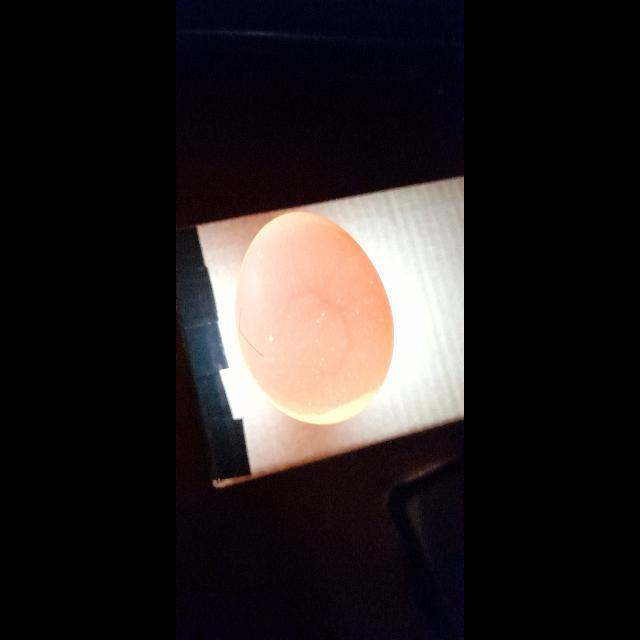Fertile: (241, 208, 395, 428)
